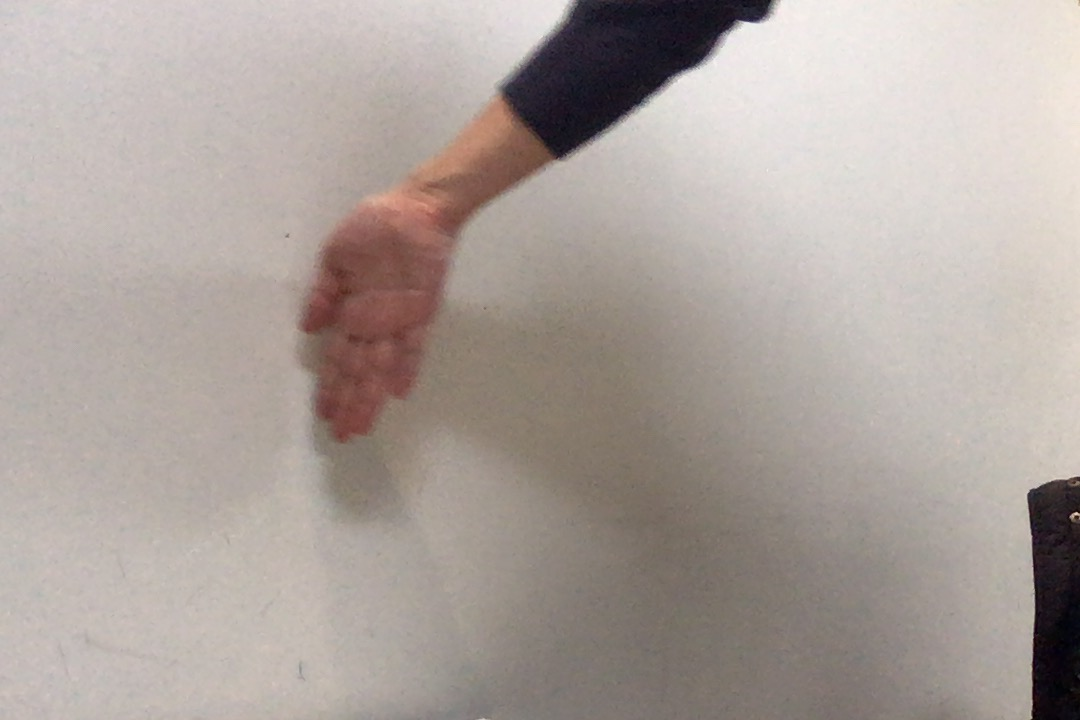palmhand: (296, 189, 459, 449)
